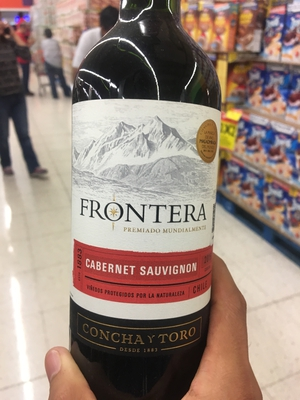frontera cabernet sauvignon: (68, 5, 234, 363)
